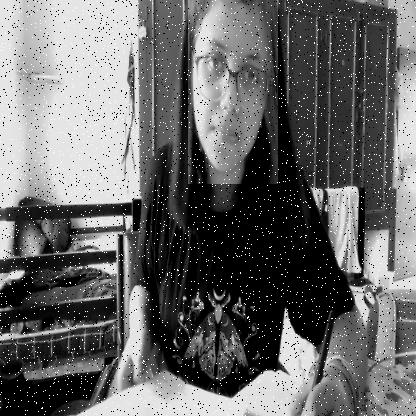Normal: (188, 0, 278, 184)
